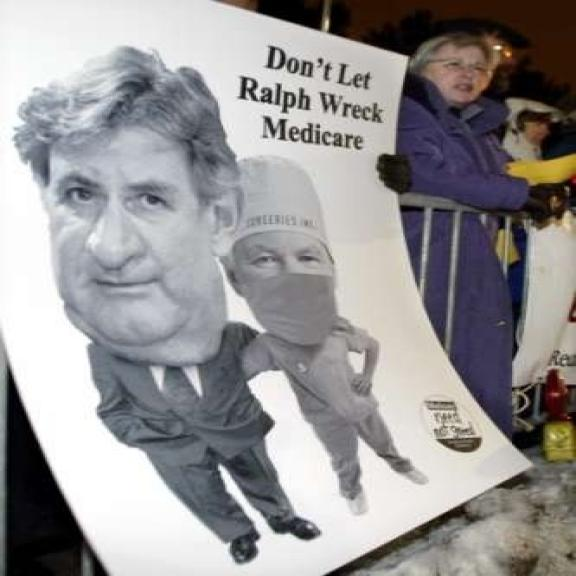face: (49, 96, 250, 350), (422, 33, 495, 106)
